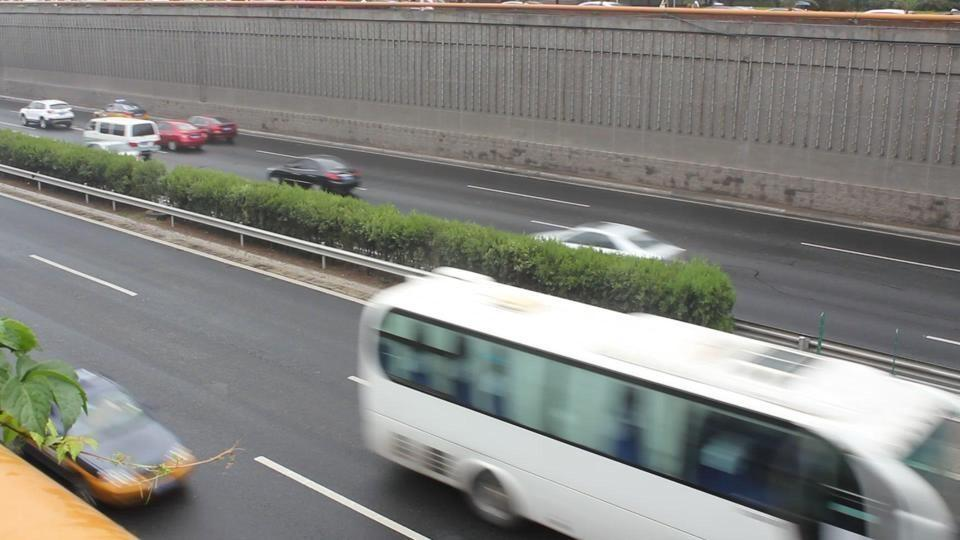car: (2, 355, 199, 510), (529, 222, 688, 262), (266, 155, 365, 195), (85, 115, 162, 153), (151, 118, 208, 151), (20, 99, 74, 129), (186, 114, 240, 144), (94, 97, 147, 119)
